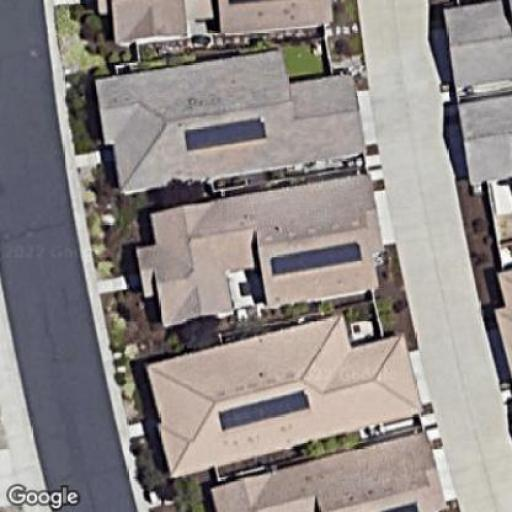solar-panel: (215, 390, 314, 431), (268, 240, 367, 279), (182, 114, 270, 152)
